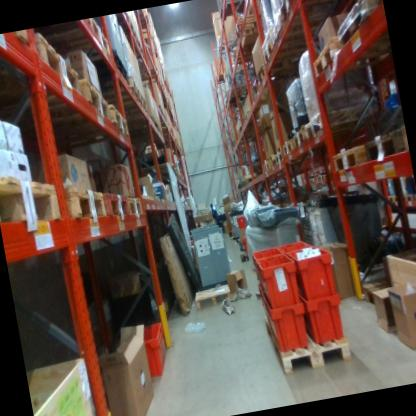pallet: (256, 291, 363, 377), (0, 25, 85, 126), (0, 160, 73, 251), (21, 75, 111, 140), (39, 17, 117, 74), (258, 28, 346, 75), (299, 99, 384, 143), (307, 30, 372, 84), (64, 101, 135, 150), (262, 6, 330, 57), (331, 0, 389, 51), (66, 53, 125, 96), (64, 179, 111, 231), (183, 275, 244, 311), (356, 119, 407, 162), (277, 0, 361, 26), (0, 31, 40, 85), (360, 273, 408, 314), (323, 142, 371, 182), (231, 5, 278, 40), (225, 36, 264, 74), (100, 181, 131, 223), (96, 77, 142, 104), (249, 67, 286, 98), (221, 81, 257, 112), (113, 86, 142, 115), (108, 14, 137, 43), (124, 188, 145, 226), (123, 39, 147, 71), (280, 133, 299, 163), (289, 125, 308, 153), (143, 70, 166, 90), (136, 95, 150, 118), (272, 147, 287, 168), (211, 75, 229, 92), (153, 124, 165, 147), (261, 160, 277, 177), (386, 190, 401, 208), (234, 127, 255, 139), (400, 191, 414, 207), (236, 249, 249, 265), (241, 112, 256, 125), (273, 144, 285, 156), (263, 154, 276, 165), (230, 233, 241, 243)
small_load_carrier: (290, 239, 344, 306), (296, 285, 346, 349), (253, 251, 304, 309), (266, 295, 311, 356), (139, 317, 176, 379), (276, 231, 327, 259), (250, 242, 284, 269), (241, 232, 254, 255), (234, 215, 249, 231)
